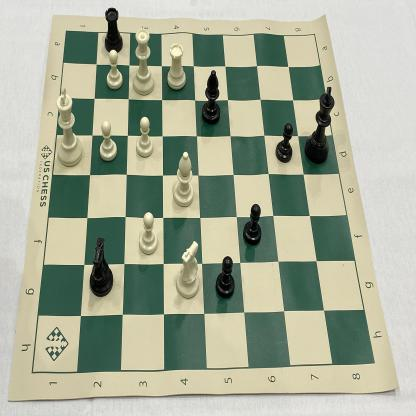black-bishop: (200, 67, 223, 128)
black-king: (303, 82, 339, 169)
black-knight: (86, 235, 116, 303)
black-pawn: (213, 252, 238, 301), (242, 198, 264, 249), (274, 121, 296, 166)
black-rook: (99, 4, 125, 55)
white-bishop: (171, 148, 196, 212)
white-king: (53, 85, 85, 170)
white-knight: (174, 235, 201, 303)
white-pawn: (136, 208, 160, 259), (97, 118, 120, 165), (135, 113, 157, 162), (104, 47, 124, 94)
white-queen: (129, 23, 158, 98)
white-rook: (165, 39, 189, 95)
